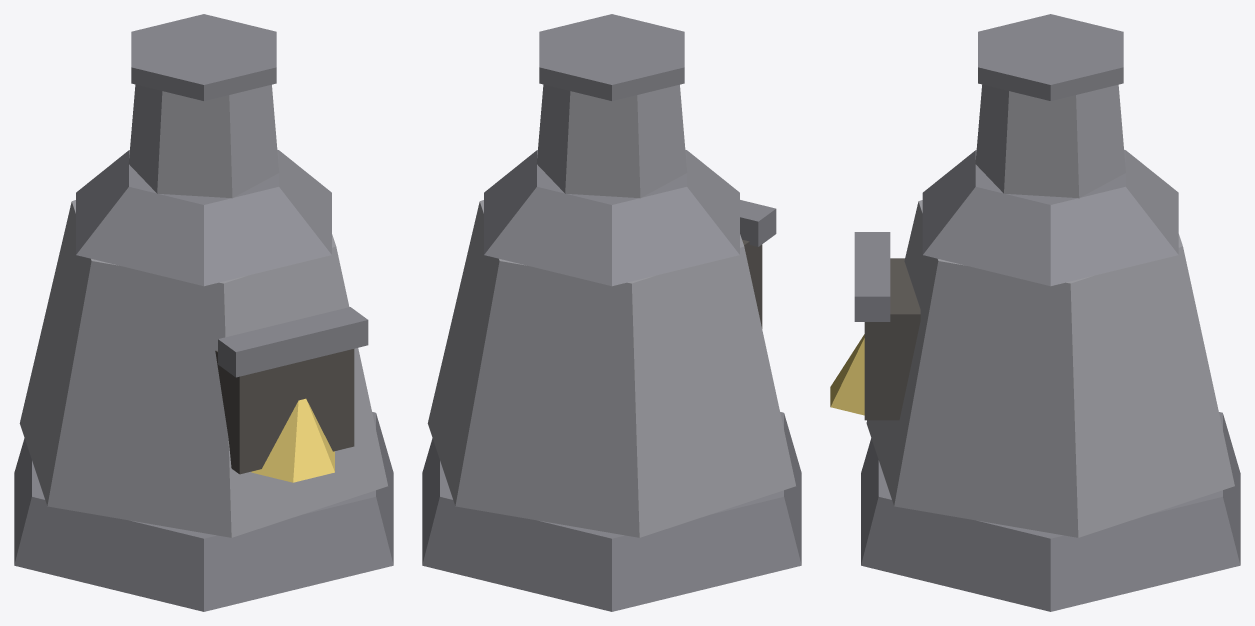
File: furnace.glb
3 views of the same model, side by side, from view 1: azimuth 30°, elevation 25°; view 2: azimuth 150°, elevation 25°; view 3: azimuth 270°, elevation 25° (orthographic).
Parts seen in each view (by area): view 1: Furnace; view 2: Furnace; view 3: Furnace.
Boxes of the visible parts, x1,y1,x2,y2 form: Furnace: [14, 14, 393, 611]; Furnace: [422, 14, 801, 611]; Furnace: [830, 14, 1240, 611].
Bounding box in the file's own units: 1.72 × 2.04 × 1.61.
